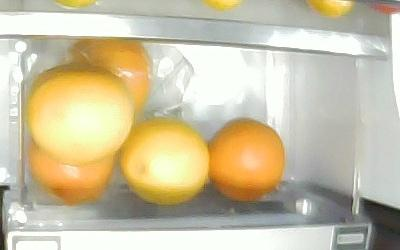grapefruit: (29, 62, 133, 165), (121, 118, 210, 207), (208, 118, 285, 203)
grapefruit_vinyl: (69, 41, 152, 118), (27, 140, 115, 206)
